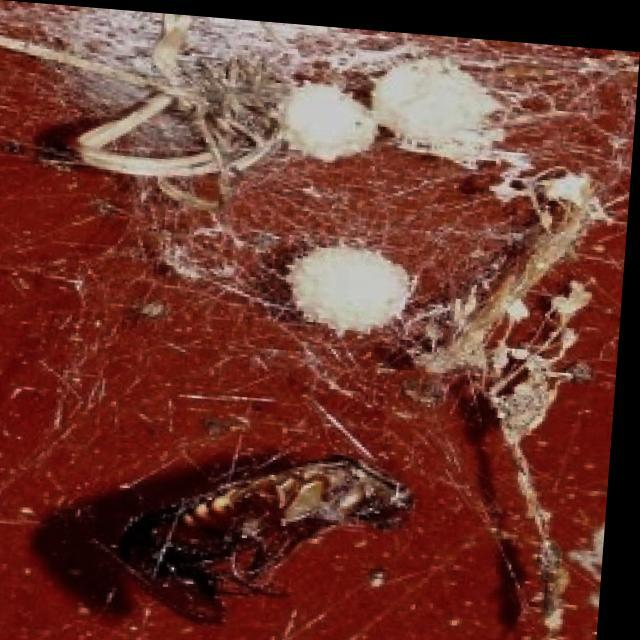cockroach: (110, 450, 430, 606)
